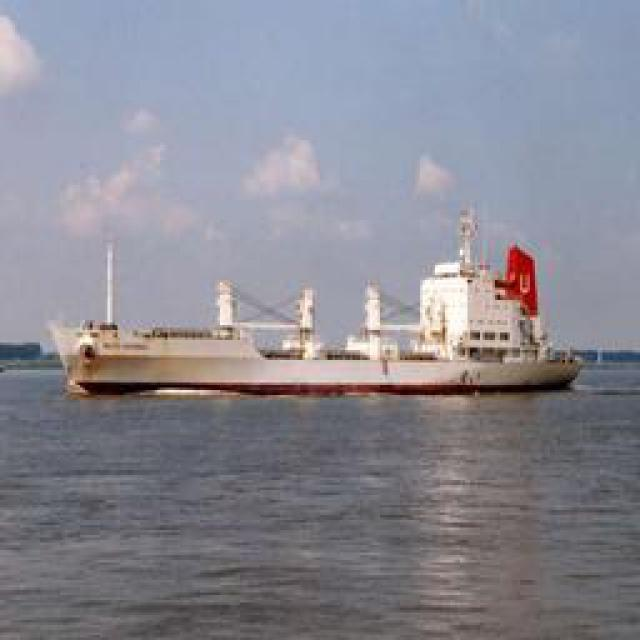Ship: (70, 211, 583, 401)
